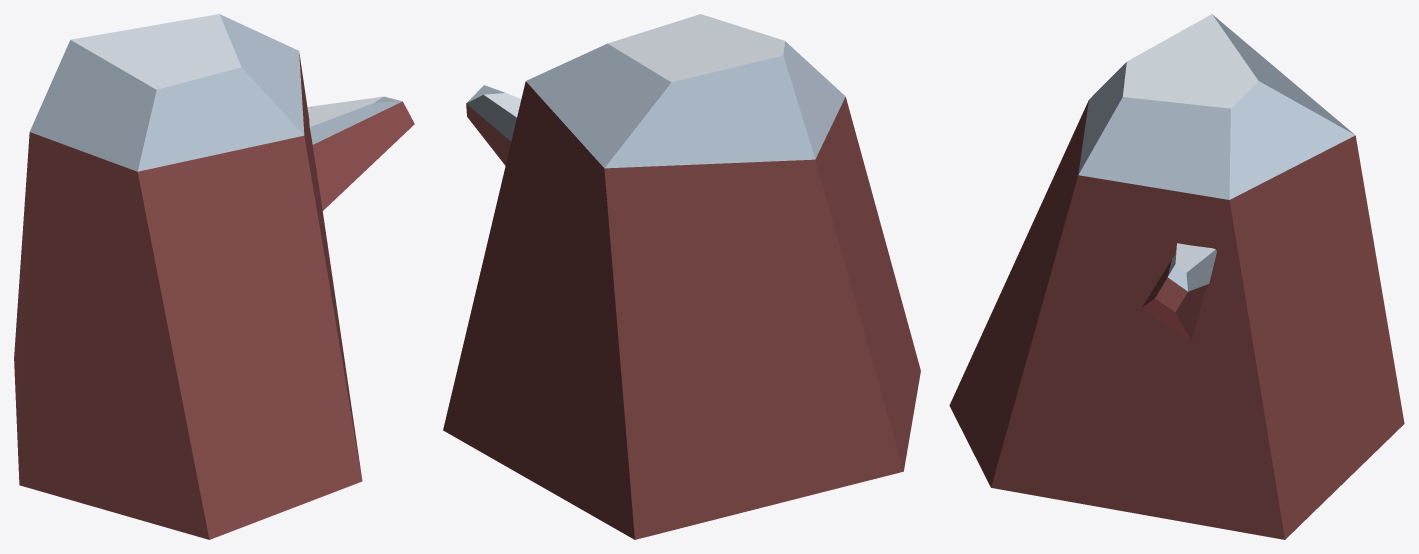
File: StumpWinter1_Alt2.fbx
3 views of the same model, side by side, from view 1: azimuth 30°, elevation 25°; view 2: azimuth 150°, elevation 25°; view 3: azimuth 270°, elevation 25° (orthographic). The views are drawn at different scales.
Parts seen in each view (by area): view 1: StumpWinter1_Alt2; view 2: StumpWinter1_Alt2; view 3: StumpWinter1_Alt2.
Part boxes in pixels (x1=…): StumpWinter1_Alt2: x1=14, y1=14, x2=414, y2=539; StumpWinter1_Alt2: x1=443, y1=14, x2=920, y2=539; StumpWinter1_Alt2: x1=949, y1=14, x2=1404, y2=539.
Bounding box in the file's own units: 0.5054 × 0.4796 × 0.5074.
